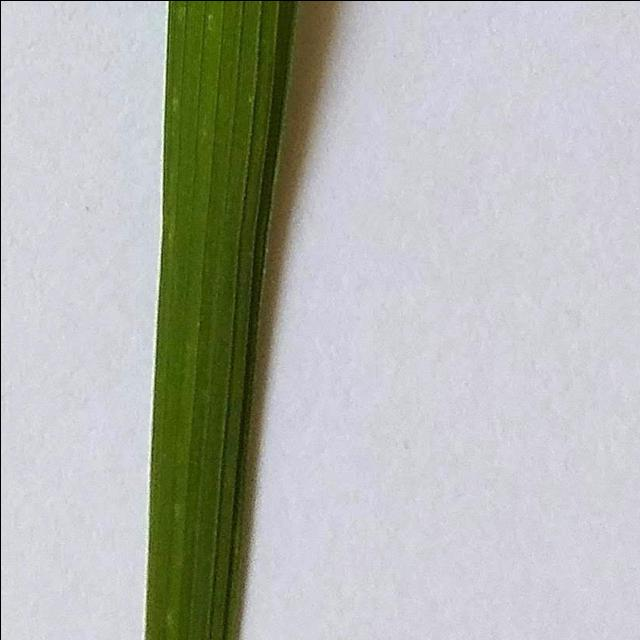healthy: (81, 0, 430, 640)
